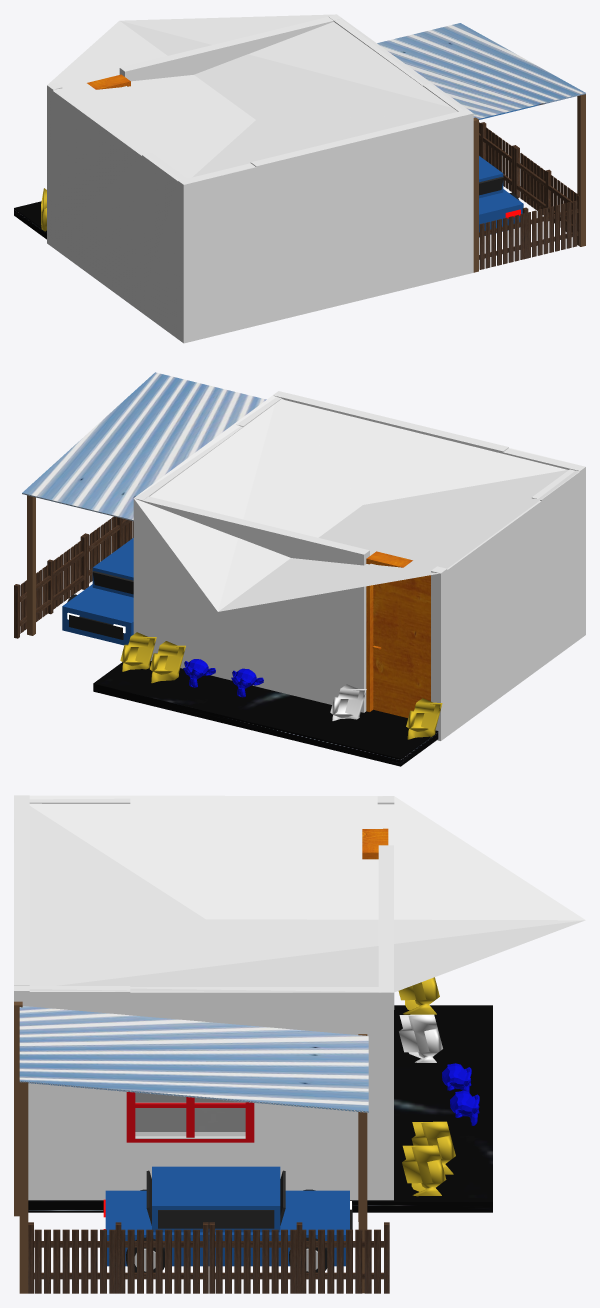
The model's file is Casita y monas1.glb.
3 views of the same model, one above another, from view 1: azimuth 30°, elevation 25°; view 2: azimuth 150°, elevation 25°; view 3: azimuth 270°, elevation 25° (orthographic). The views are drawn at different scales.
Visible parts, largest first — view 1: Base 2, Tejaban_Lamina, Barda_Tablon_18, Barda_Tablon_18.001, Auto_Stop_Izq, Barda_Tablon_18.002, Tejaban_Poste_Del_Der, Tejaban_Poste_Del_Der.001, Base 1, Puerta_Panel; view 2: Base 2, Tejaban_Lamina, Base 1, Puerta_Panel, Auto_Stop_Izq, Barda_Tablon_18.002, Barda_Tablon_18.001, Tejaban_Poste_Del_Izq, Cube.002, Cube.001, Cube, Cube.003 (+2 smaller); view 3: Base 2, Tejaban_Lamina, Base 1, Auto_Stop_Izq, Barda_Tablon_18.001, Barda_Tablon_18.002, Ventana_Marco_Inf, Tejaban_Poste_Del_Der, Cube, Cube.003, Tejaban_Poste_Del_Izq, Tejaban_Poste_Del_Der.001 (+5 smaller).
Boxes of the visible parts, x1,y1,x2,y2 form: Base 2: [47, 14, 473, 343]; Tejaban_Lamina: [377, 23, 585, 119]; Barda_Tablon_18: [479, 195, 579, 269]; Barda_Tablon_18.001: [514, 146, 577, 232]; Auto_Stop_Izq: [479, 156, 523, 237]; Barda_Tablon_18.002: [479, 122, 517, 192]; Tejaban_Poste_Del_Der: [577, 94, 585, 246]; Tejaban_Poste_Del_Der.001: [473, 117, 478, 272]; Base 1: [14, 201, 46, 239]; Puerta_Panel: [87, 74, 130, 89]; Base 2: [133, 391, 585, 740]; Tejaban_Lamina: [22, 372, 266, 521]; Base 1: [93, 661, 438, 766]; Puerta_Panel: [366, 551, 430, 717]; Auto_Stop_Izq: [62, 538, 133, 645]; Barda_Tablon_18.002: [14, 535, 86, 638]; Barda_Tablon_18.001: [83, 516, 133, 587]; Tejaban_Poste_Del_Izq: [27, 495, 35, 635]; Cube.002: [149, 641, 185, 683]; Cube.001: [406, 698, 442, 739]; Cube: [120, 632, 156, 671]; Cube.003: [330, 684, 366, 720]; Base 2: [14, 795, 585, 1200]; Tejaban_Lamina: [19, 1006, 368, 1112]; Base 1: [28, 1005, 492, 1212]; Auto_Stop_Izq: [103, 1166, 352, 1272]; Barda_Tablon_18.001: [28, 1222, 208, 1293]; Barda_Tablon_18.002: [209, 1222, 389, 1293]; Ventana_Marco_Inf: [126, 1092, 254, 1142]; Tejaban_Poste_Del_Der: [19, 1082, 28, 1293]; Cube: [402, 1145, 446, 1196]; Cube.003: [399, 1014, 442, 1062]; Tejaban_Poste_Del_Izq: [358, 1112, 367, 1293]; Tejaban_Poste_Del_Der.001: [14, 1001, 22, 1216].
Size of the model in its own units: 11.22 by 4.51 by 9.83.
Materials: 32 (11 with a texture image).
